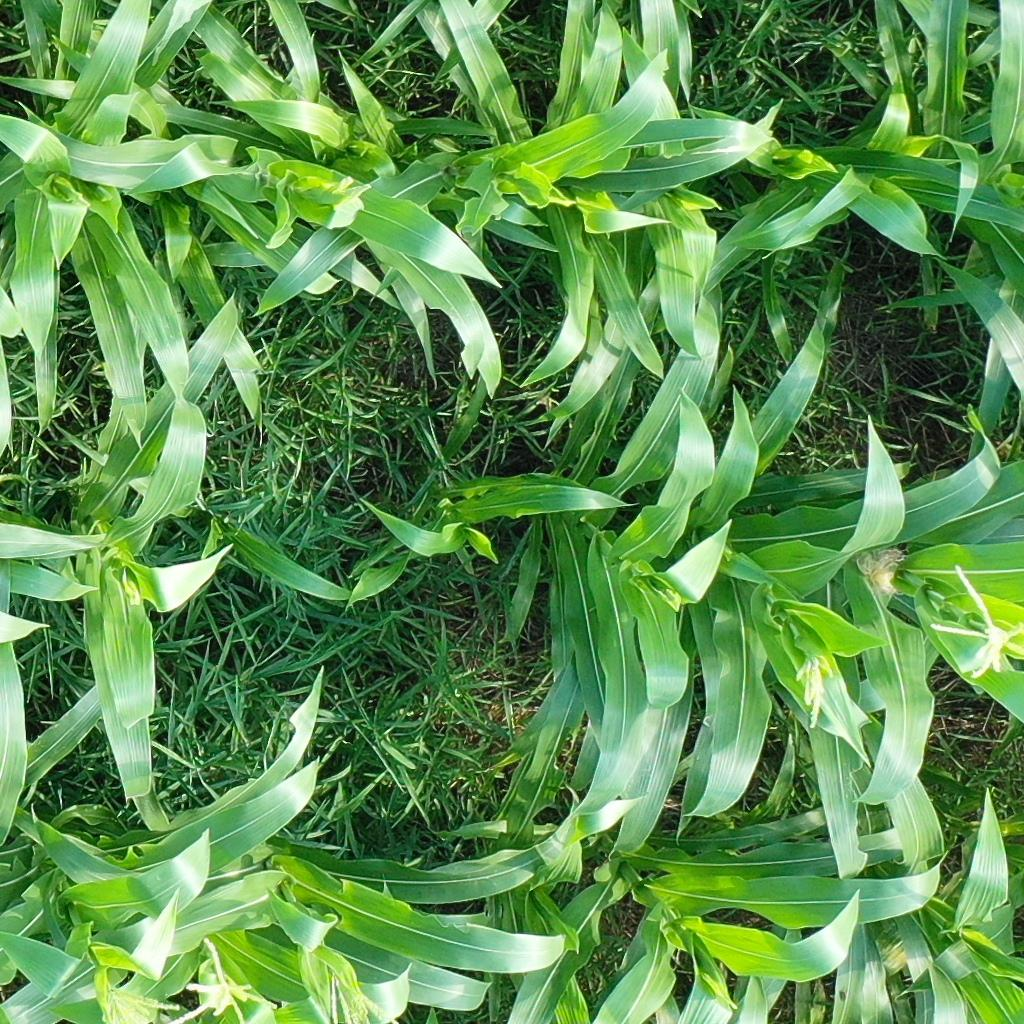Tassel: (922, 560, 1024, 680), (166, 932, 281, 1024), (323, 960, 393, 1024), (98, 981, 182, 1024), (795, 647, 833, 729), (324, 174, 374, 210), (58, 185, 95, 208), (121, 576, 145, 609), (653, 585, 683, 608)
